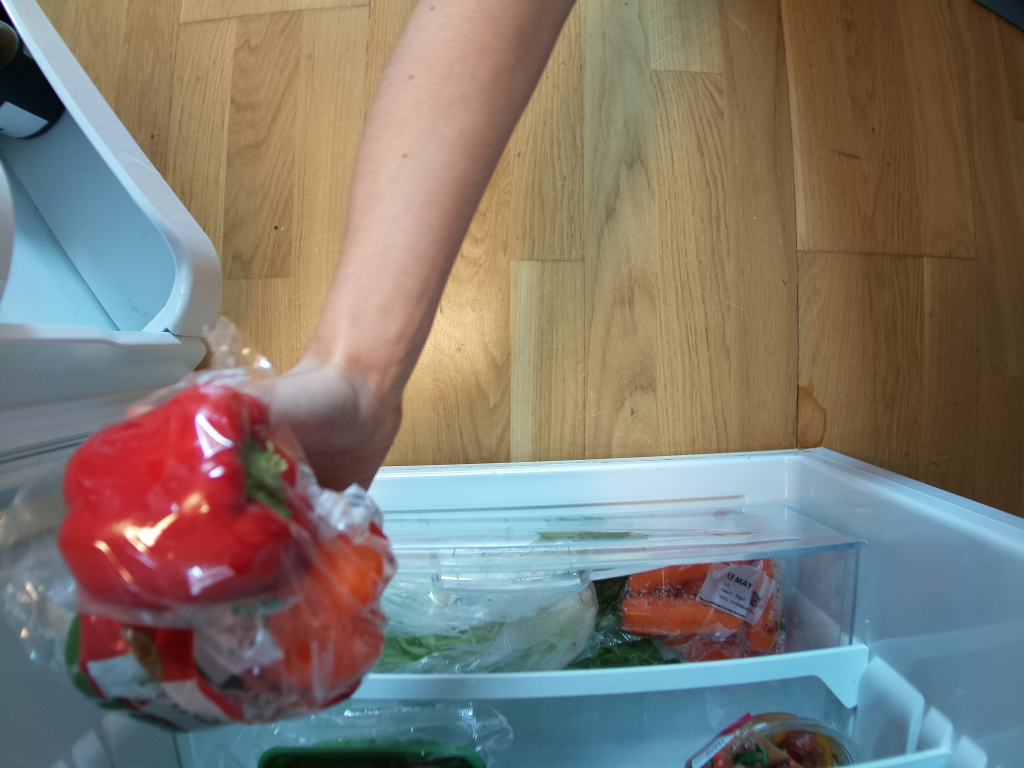pepper: (60, 381, 322, 619), (247, 496, 393, 698)
